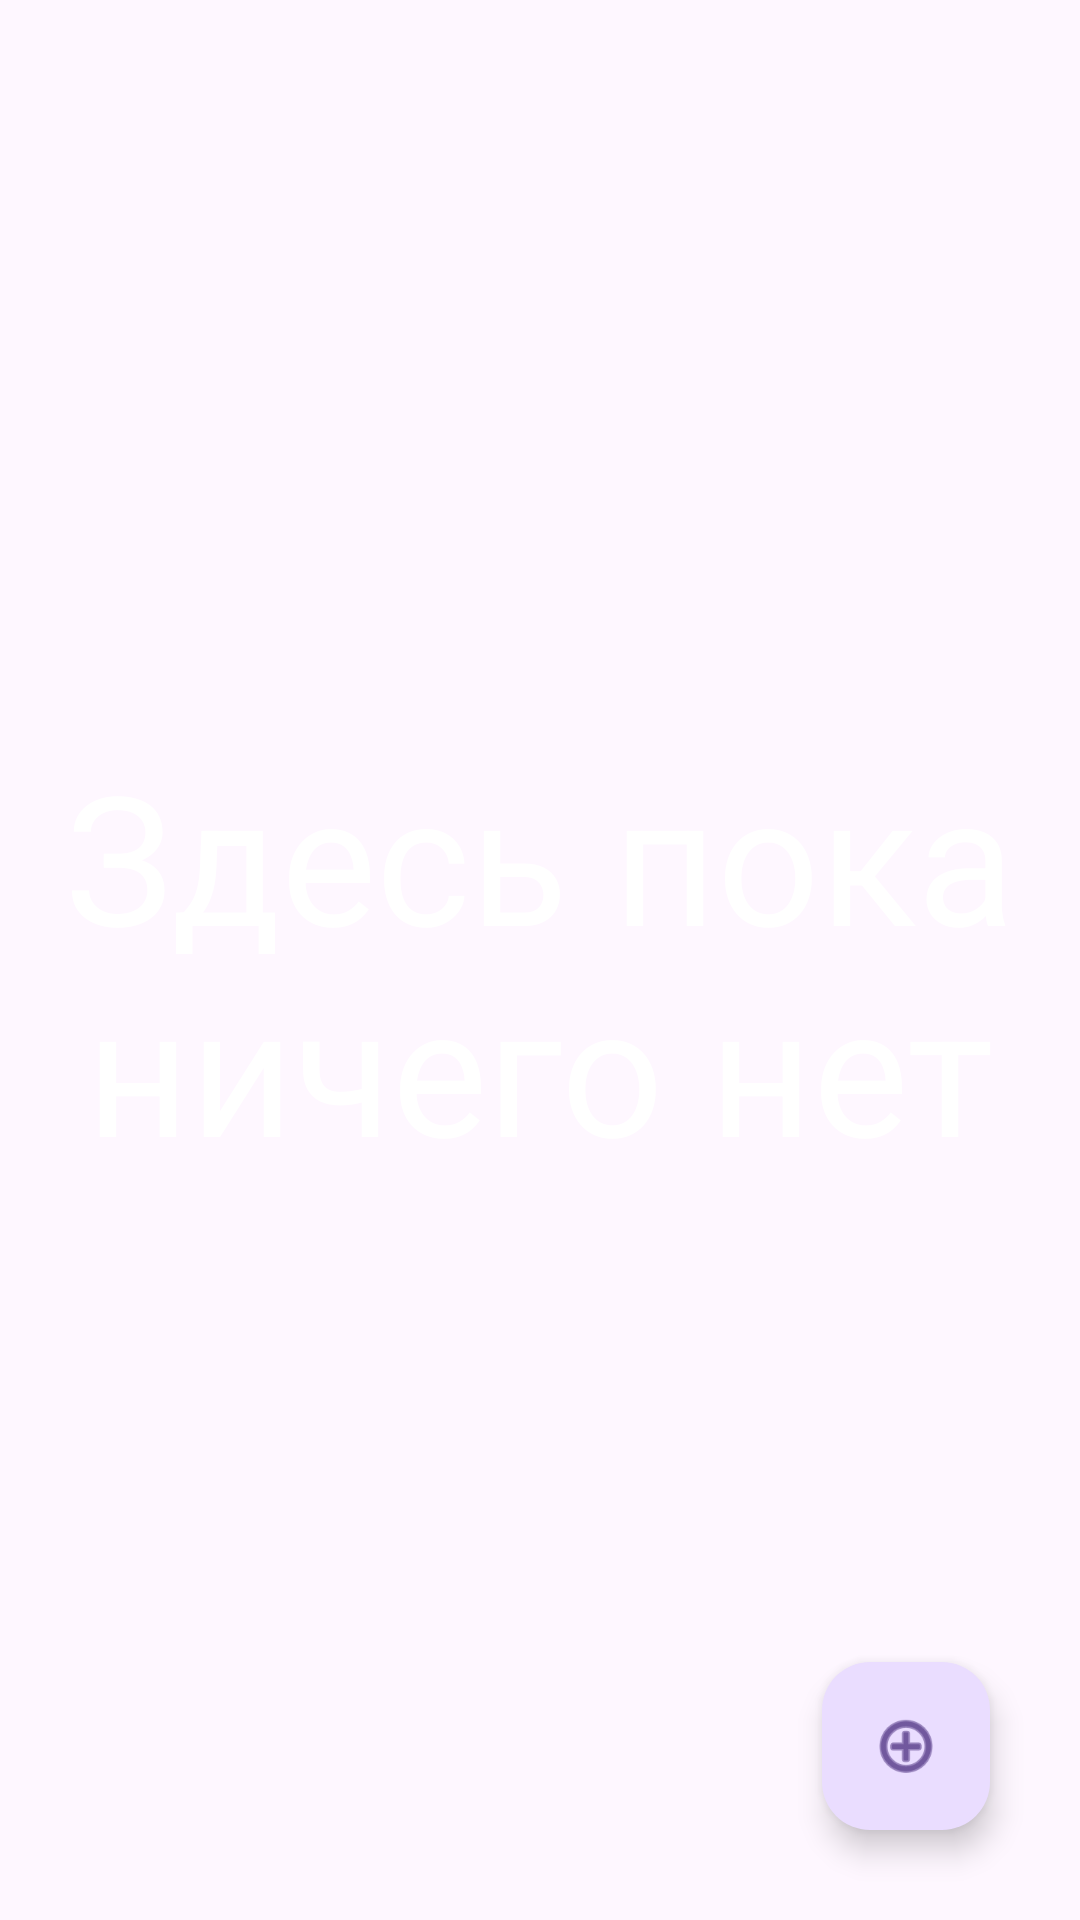

Screen size 1080*1920. Icon name, then its box in pixels as (x1, y1, x2, y2):
add: (822, 1662, 990, 1830)
